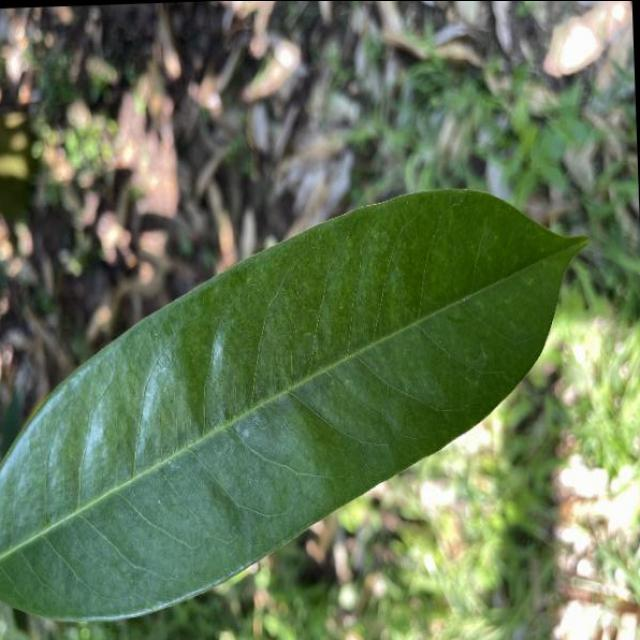No Disease: (0, 170, 611, 636)
